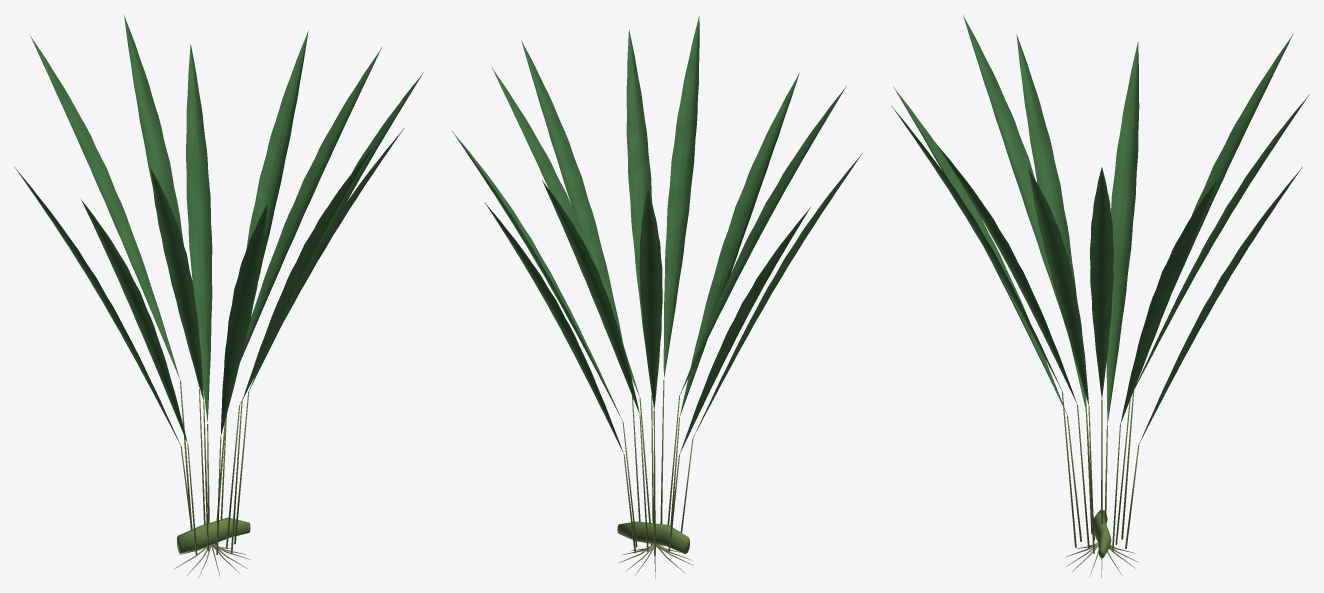
The model's file is javafern-desktop.glb.
3 renders of one model, left to right at view 1: azimuth 30°, elevation 25°; view 2: azimuth 150°, elevation 25°; view 3: azimuth 270°, elevation 25°, orthographic. The views are drawn at different scales.
Parts seen in each view (by area): view 1: blade, petiole, creeping-rhizome; view 2: blade, petiole, creeping-rhizome; view 3: blade, petiole, creeping-rhizome.
Part boxes in pixels (left/top/right/bottom): blade: left=14, top=15, right=423, bottom=445; petiole: left=180, top=380, right=249, bottom=554; creeping-rhizome: left=177, top=517, right=250, bottom=553; blade: left=452, top=16, right=862, bottom=454; petiole: left=622, top=380, right=693, bottom=556; creeping-rhizome: left=617, top=521, right=689, bottom=553; blade: left=891, top=15, right=1309, bottom=443; petiole: left=1062, top=390, right=1139, bottom=553; creeping-rhizome: left=1092, top=510, right=1111, bottom=558.
Size of the model in its own units: 0.7485 by 0.9676 by 0.7548.
